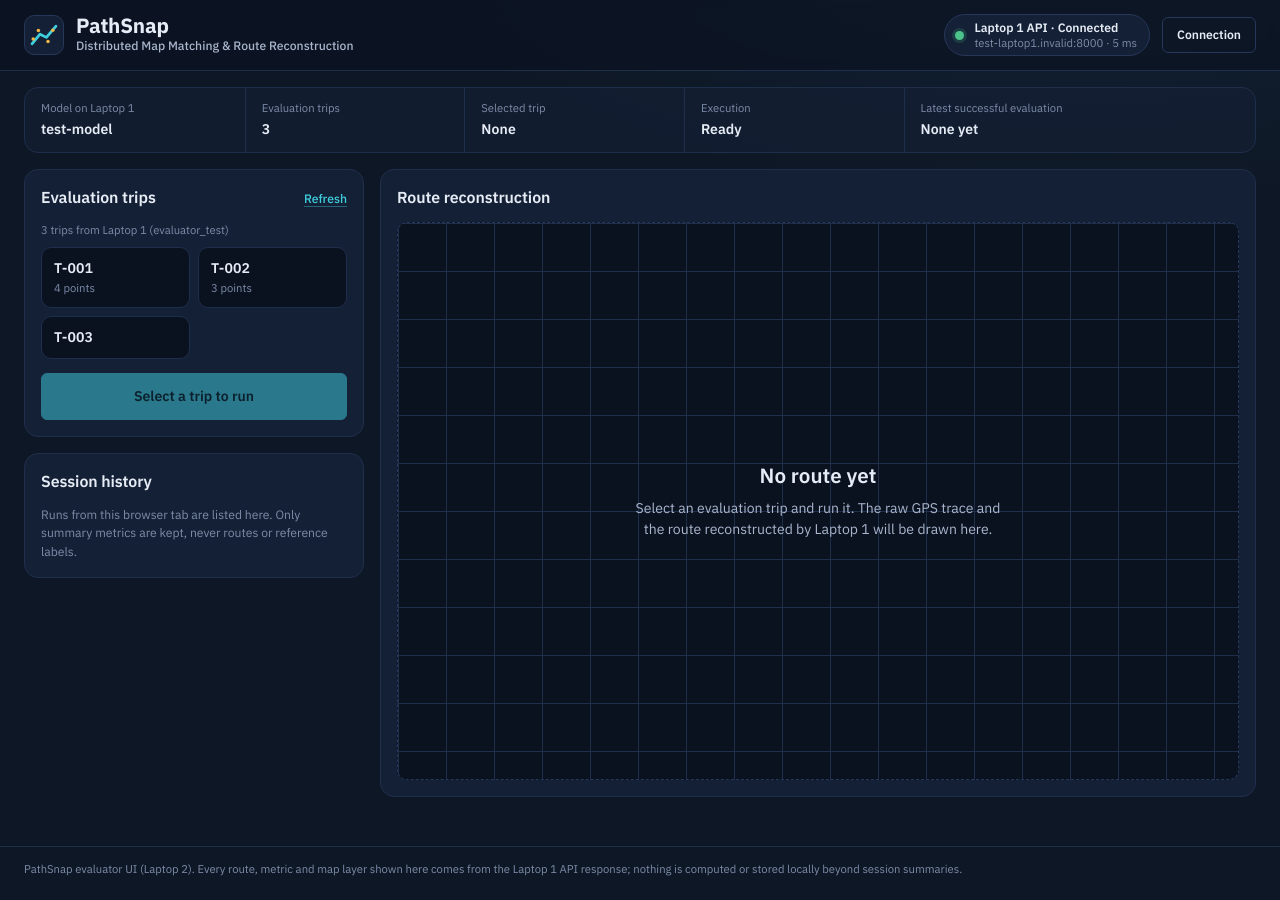
Test case: evaluation flow › reports a missing trip (404)
This screenshot has width=1280, height=900.
Click the radio button labelled "T-003": (116, 337) [41,316,190,359]
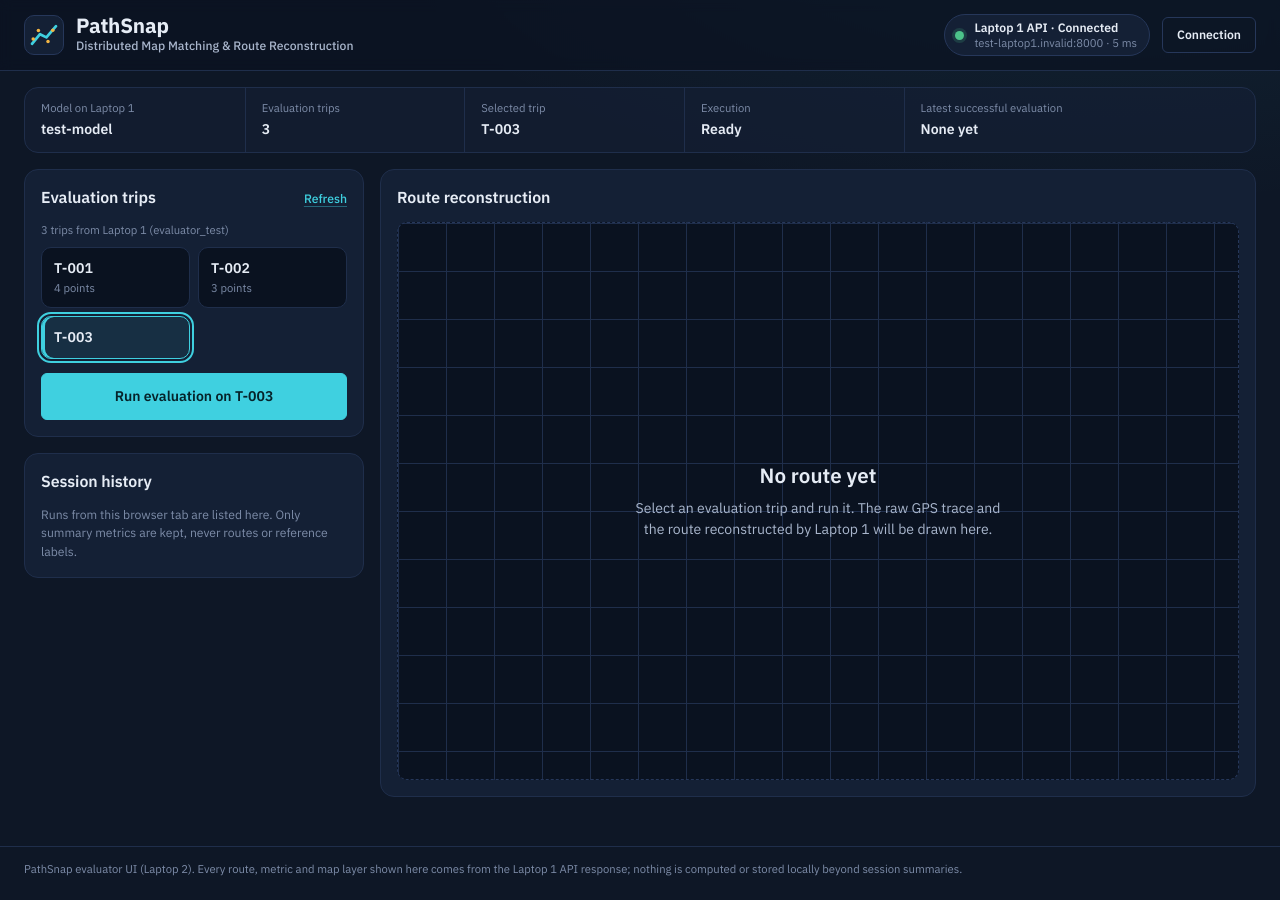
Click the button "Run evaluation on T-003": (194, 396) [41,373,347,420]
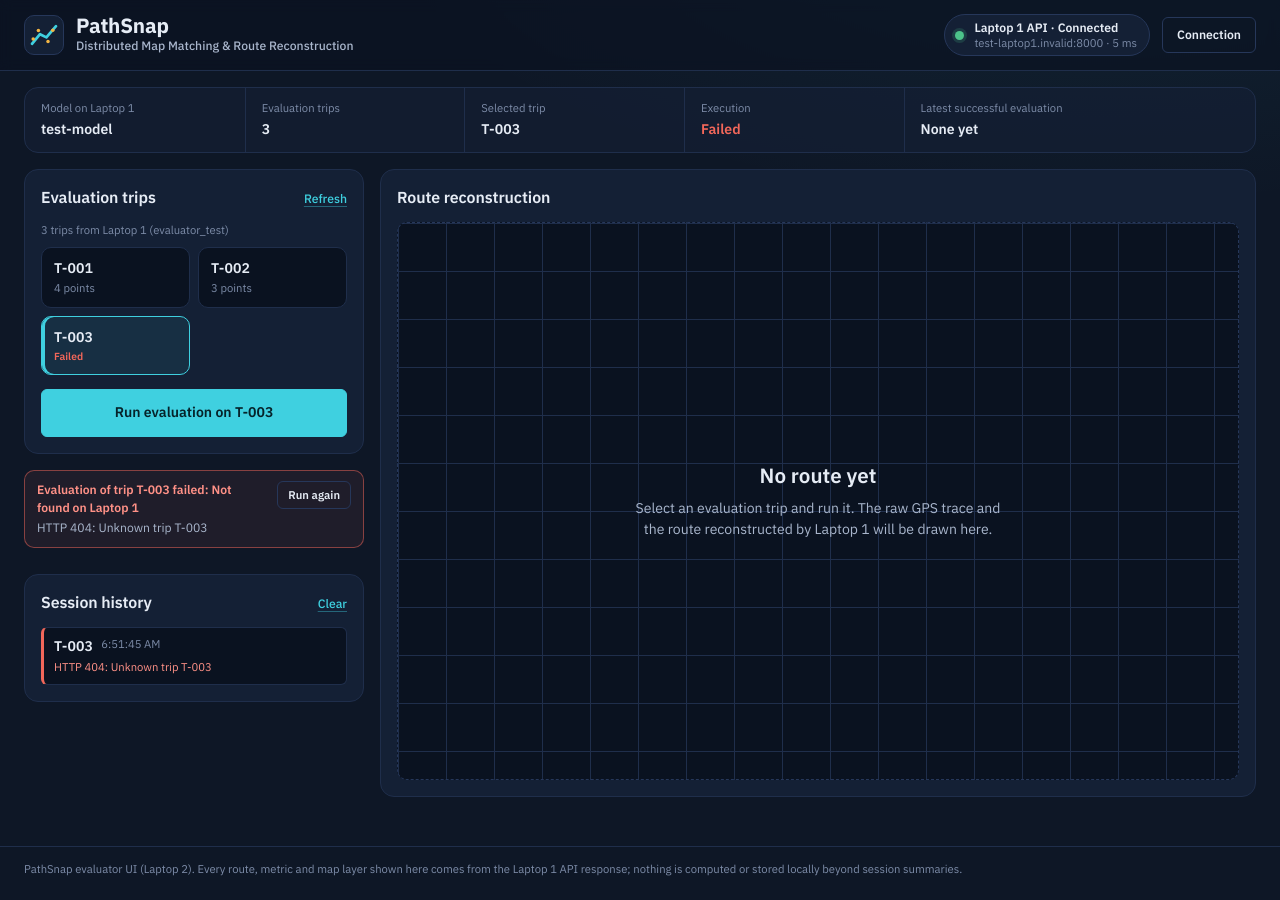
Expected: the text "Evaluation of trip T-003 failed: Not found on Laptop 1" is shown, [37,480,265,517]
